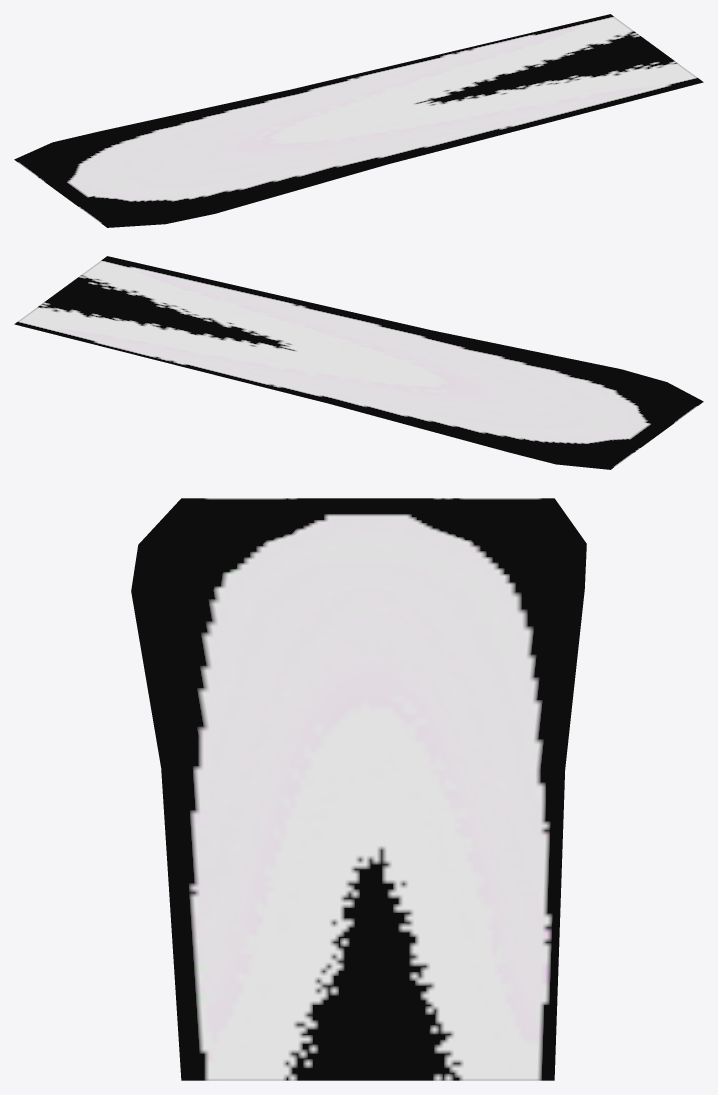
Rendered from yupan_1229_2.FBX.
3 views of the same model, one above another, from view 1: azimuth 30°, elevation 25°; view 2: azimuth 150°, elevation 25°; view 3: azimuth 270°, elevation 25° (orthographic). The views are drawn at different scales.
Parts seen in each view (by area): view 1: Plane001; view 2: Plane001; view 3: Plane001.
Boxes of the visible parts, x1,y1,x2,y2 form: Plane001: (14, 14, 703, 227); Plane001: (14, 256, 703, 469); Plane001: (131, 498, 586, 1080).
Size of the model in its own units: 3.69 by 3.46e-16 by 1.22.
